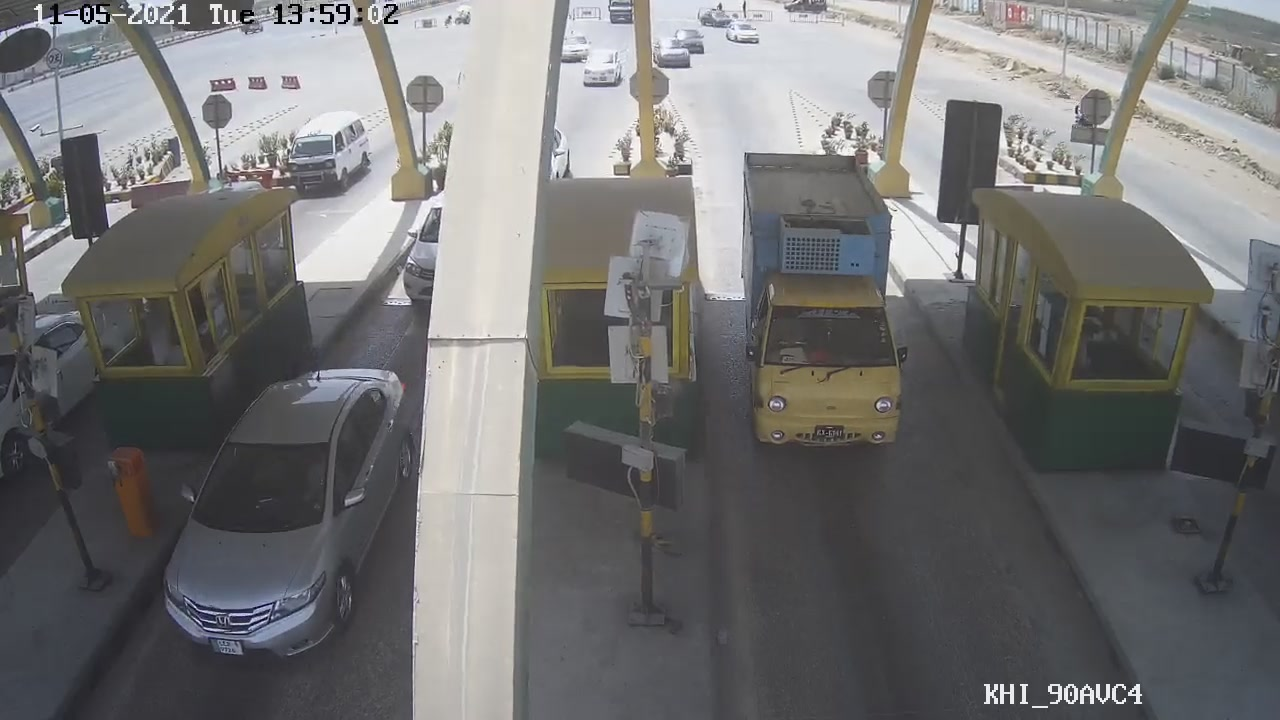F2: (732, 144, 923, 449)
